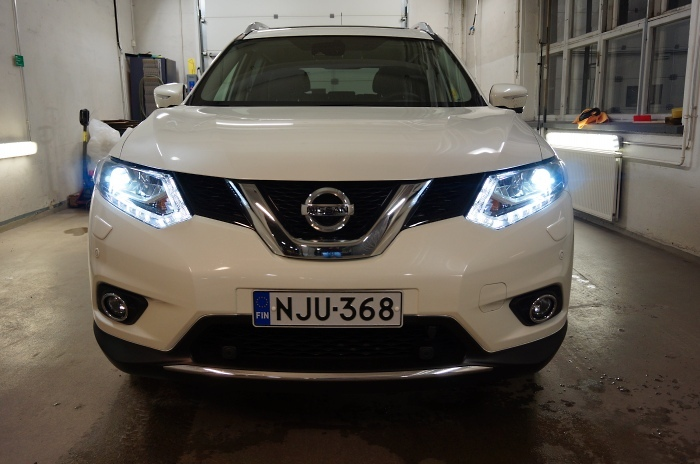license: (253, 291, 400, 332)
